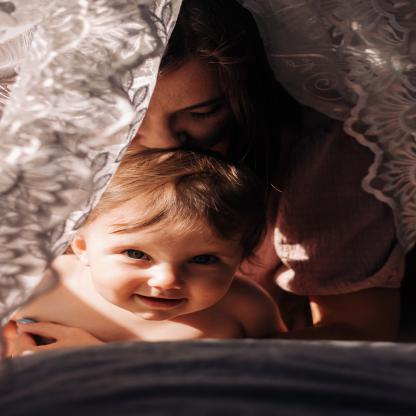Eye: (117, 249, 152, 262), (187, 254, 223, 265)
Mouth: (131, 293, 190, 309)
Nose: (147, 268, 185, 290)
